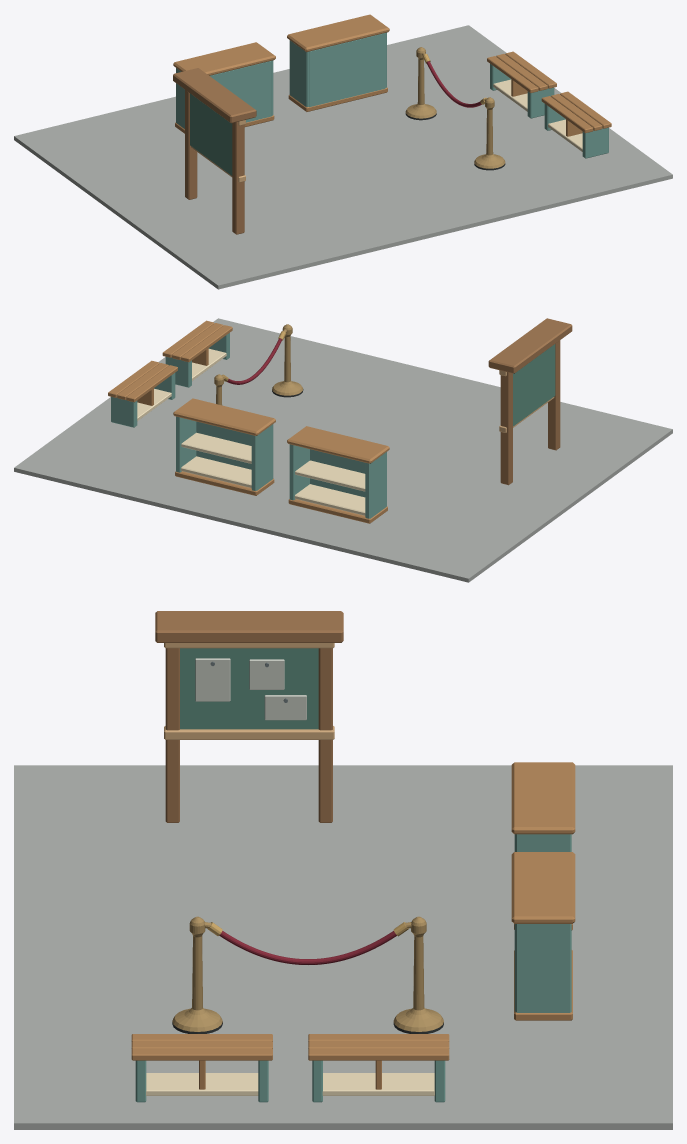
The picture shows the model from 3 angles, top to bottom: view 1: azimuth 30°, elevation 25°; view 2: azimuth 150°, elevation 25°; view 3: azimuth 270°, elevation 25°; orthographic projection. The views are drawn at different scales.
Visible parts, largest first — view 1: SCENE_ONLY__SupportFloor, east_service_counter__dining-service-counter-01, entrance_noticeboard__village-noticeboard-01, west_service_counter__dining-service-counter-01, south_waiting_bench__entryway-storage-bench-01, north_waiting_bench__entryway-storage-bench-01, waiting_divider__Stanchion_Left, waiting_divider__Stanchion_Right; view 2: SCENE_ONLY__SupportFloor, east_service_counter__dining-service-counter-01, west_service_counter__dining-service-counter-01, entrance_noticeboard__village-noticeboard-01, north_waiting_bench__entryway-storage-bench-01, south_waiting_bench__entryway-storage-bench-01, waiting_divider__Stanchion_Left; view 3: SCENE_ONLY__SupportFloor, entrance_noticeboard__village-noticeboard-01, east_service_counter__dining-service-counter-01, north_waiting_bench__entryway-storage-bench-01, south_waiting_bench__entryway-storage-bench-01, west_service_counter__dining-service-counter-01, waiting_divider__Stanchion_Left, waiting_divider__Stanchion_Right, waiting_divider__Rope_ContinuousSag.
Part boxes in pixels (x1,y1,x2,y2): SCENE_ONLY__SupportFloor: (14, 25, 672, 289); east_service_counter__dining-service-counter-01: (287, 14, 389, 111); entrance_noticeboard__village-noticeboard-01: (173, 68, 256, 234); west_service_counter__dining-service-counter-01: (173, 42, 275, 133); south_waiting_bench__entryway-storage-bench-01: (541, 91, 611, 158); north_waiting_bench__entryway-storage-bench-01: (487, 51, 556, 118); waiting_divider__Stanchion_Left: (474, 97, 505, 170); waiting_divider__Stanchion_Right: (405, 47, 436, 120); SCENE_ONLY__SupportFloor: (14, 318, 672, 582); east_service_counter__dining-service-counter-01: (173, 398, 275, 495); west_service_counter__dining-service-counter-01: (287, 426, 389, 523); entrance_noticeboard__village-noticeboard-01: (488, 318, 572, 485); north_waiting_bench__entryway-storage-bench-01: (108, 360, 177, 427); south_waiting_bench__entryway-storage-bench-01: (162, 320, 232, 387); waiting_divider__Stanchion_Left: (272, 324, 303, 397); SCENE_ONLY__SupportFloor: (14, 765, 672, 1129); entrance_noticeboard__village-noticeboard-01: (155, 611, 343, 822); east_service_counter__dining-service-counter-01: (511, 852, 575, 1020); north_waiting_bench__entryway-storage-bench-01: (308, 1034, 449, 1102); south_waiting_bench__entryway-storage-bench-01: (131, 1034, 272, 1102); west_service_counter__dining-service-counter-01: (511, 762, 575, 930); waiting_divider__Stanchion_Left: (172, 916, 222, 1033); waiting_divider__Stanchion_Right: (393, 916, 443, 1033); waiting_divider__Rope_ContinuousSag: (219, 931, 396, 964).
Size of the model in its own units: 7.2 by 1.93 by 5.6.
